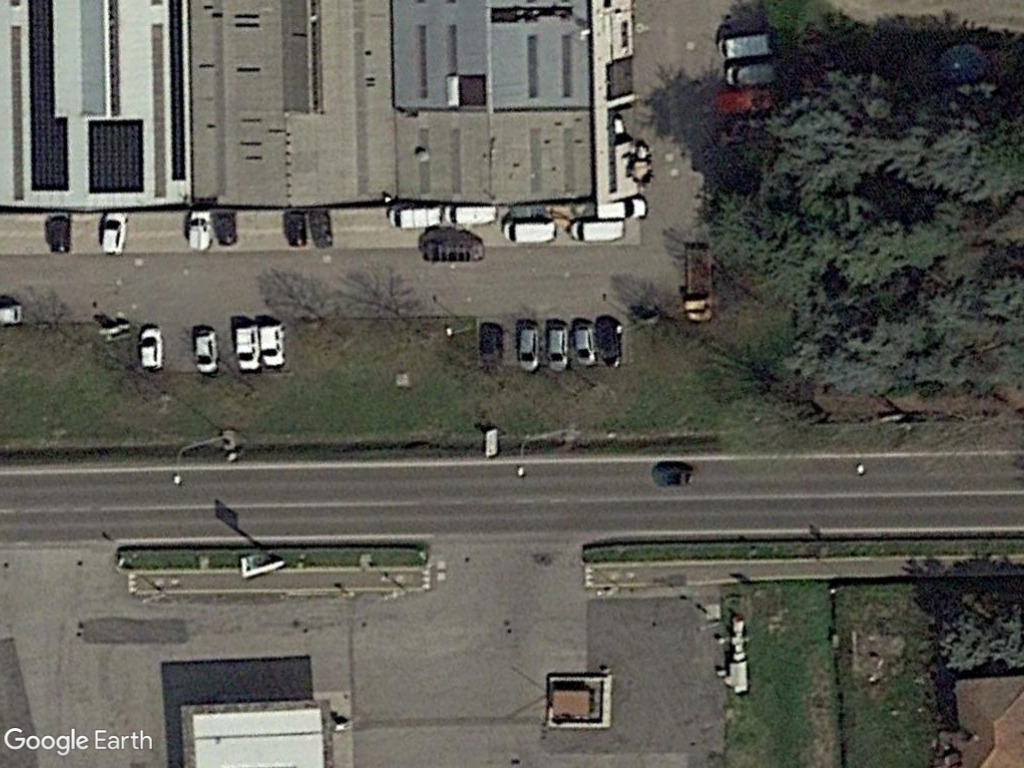car: (95, 209, 134, 263), (189, 325, 225, 378), (232, 322, 265, 376), (513, 319, 544, 376), (136, 320, 168, 373), (544, 318, 573, 376), (572, 319, 601, 371), (258, 320, 287, 372), (187, 207, 216, 255)
other: (680, 240, 718, 327)
van: (711, 28, 780, 63), (497, 213, 561, 248), (586, 193, 654, 222), (441, 200, 501, 231), (722, 57, 783, 87), (384, 203, 445, 231), (567, 219, 626, 244)
